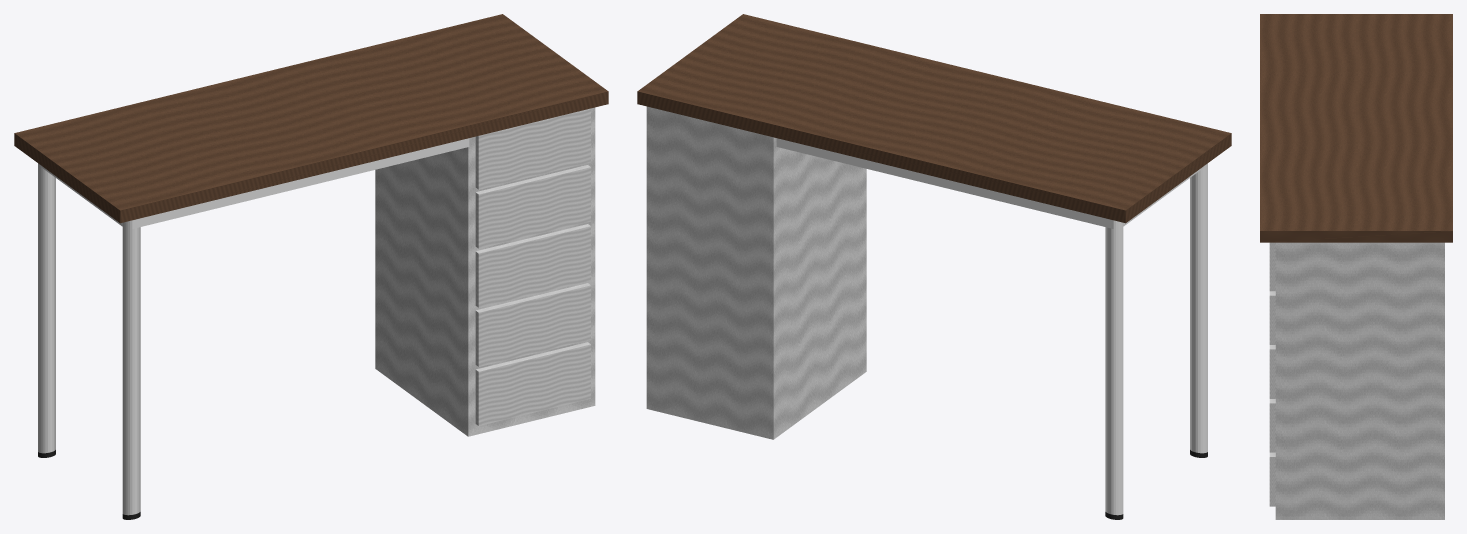
3 renders of one model, left to right at view 1: azimuth 30°, elevation 25°; view 2: azimuth 150°, elevation 25°; view 3: azimuth 270°, elevation 25°, orthographic. The views are drawn at different scales.
Visible parts, largest first — view 1: 1 tabletop, 9 cabinet_body, 11 drawer_2, 13 drawer_4, 12 drawer_3, 14 drawer_5, 10 drawer_1, 5 leg_front_left, 7 leg_back_left, 2 apron_front; view 2: 9 cabinet_body, 1 tabletop, 7 leg_back_left, 5 leg_front_left, 3 apron_back; view 3: 9 cabinet_body, 1 tabletop, 14 drawer_5, 11 drawer_2, 12 drawer_3, 13 drawer_4, 10 drawer_1.
Part boxes in pixels (<box>): 1 tabletop: <box>14,14,608,223</box>; 9 cabinet_body: <box>375,107,595,436</box>; 11 drawer_2: <box>475,165,590,248</box>; 13 drawer_4: <box>475,283,590,366</box>; 12 drawer_3: <box>475,224,590,307</box>; 14 drawer_5: <box>475,342,590,425</box>; 10 drawer_1: <box>475,108,590,189</box>; 5 leg_front_left: <box>122,220,140,515</box>; 7 leg_back_left: <box>38,163,55,453</box>; 2 apron_front: <box>132,138,469,228</box>; 9 cabinet_body: <box>646,106,866,439</box>; 1 tabletop: <box>637,14,1231,223</box>; 7 leg_back_left: <box>1105,220,1123,515</box>; 5 leg_front_left: <box>1190,163,1207,453</box>; 3 apron_back: <box>776,138,1113,228</box>; 9 cabinet_body: <box>1275,242,1444,519</box>; 1 tabletop: <box>1260,14,1452,242</box>; 14 drawer_5: <box>1269,452,1275,506</box>; 11 drawer_2: <box>1269,291,1275,344</box>; 12 drawer_3: <box>1269,345,1275,398</box>; 13 drawer_4: <box>1269,399,1275,452</box>; 10 drawer_1: <box>1269,242,1275,291</box>.
Bounding box in the file's own units: 1.6 × 1 × 0.6.
5 materials, 3 textured.
